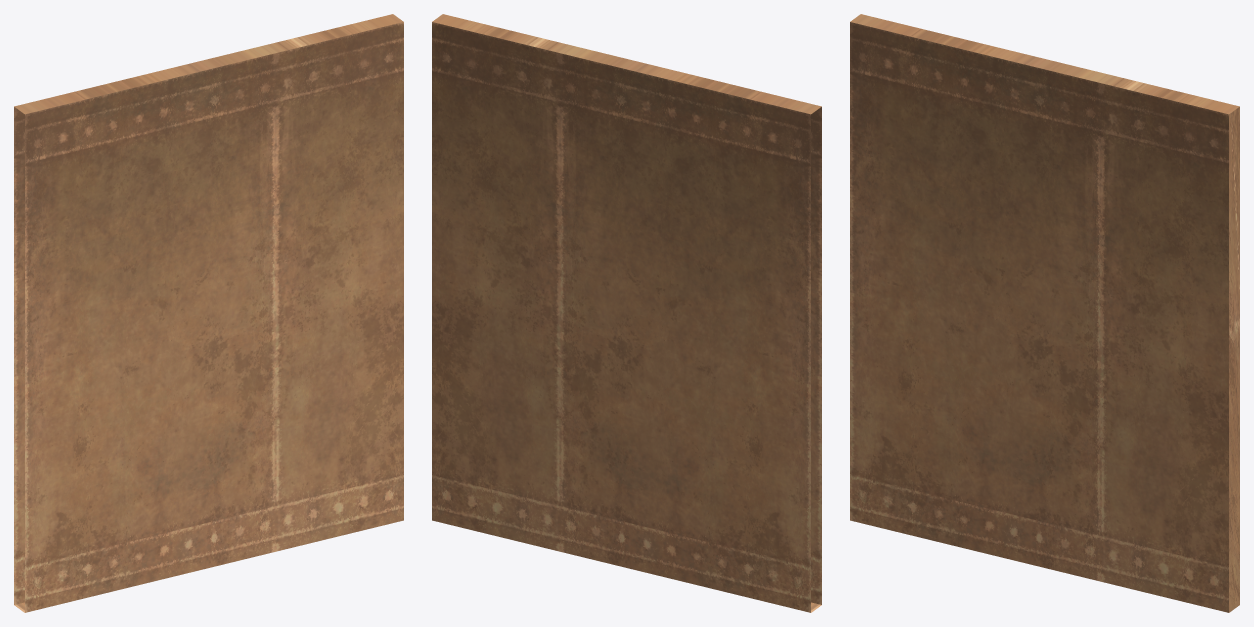
Rendered from Wall_1_I.fbx.
3 views of the same model, side by side, from view 1: azimuth 30°, elevation 25°; view 2: azimuth 150°, elevation 25°; view 3: azimuth 330°, elevation 25° (orthographic).
Parts seen in each view (by area): view 1: Wall_1_I; view 2: Wall_1_I; view 3: Wall_1_I.
Part boxes in pixels (x1,y1,x2,y2): Wall_1_I: (14, 14, 403, 612); Wall_1_I: (432, 14, 821, 612); Wall_1_I: (850, 14, 1239, 612).
Bounding box in the file's own units: 2.02 × 2.53 × 0.0998.
